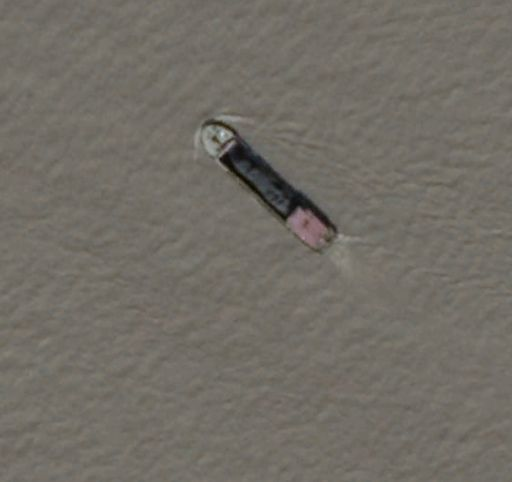boat: (195, 117, 343, 260)
